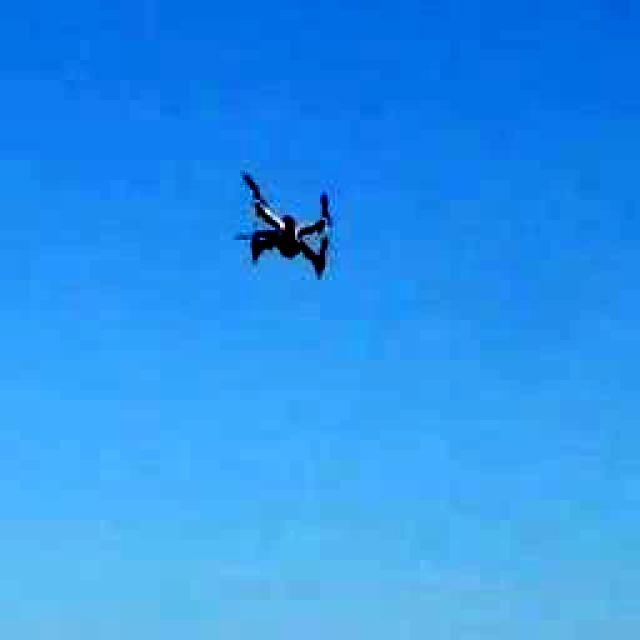bird: (212, 145, 360, 300)
